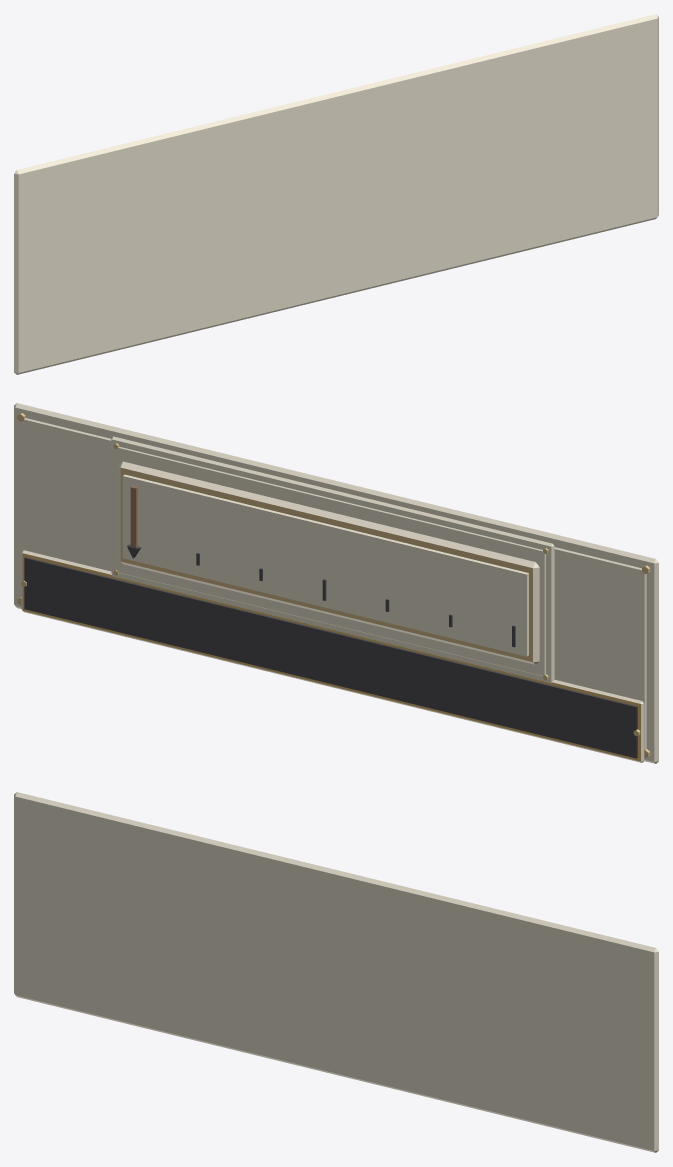
The model's file is Disp_Gauge_3x1.fbx.
The picture shows the model from 3 angles, top to bottom: view 1: azimuth 30°, elevation 25°; view 2: azimuth 150°, elevation 25°; view 3: azimuth 330°, elevation 25°; orthographic projection.
Visible parts, largest first — view 1: Disp_Gauge_3x1; view 2: Disp_Gauge_3x1, Needle.003; view 3: Disp_Gauge_3x1.
Part boxes in pixels (bbox=[...]): Disp_Gauge_3x1: bbox=[14, 14, 658, 374]; Disp_Gauge_3x1: bbox=[14, 403, 658, 763]; Needle.003: bbox=[127, 486, 140, 558]; Disp_Gauge_3x1: bbox=[14, 792, 658, 1152].
Bounding box in the file's own units: 3.16 × 0.96 × 0.1347.
